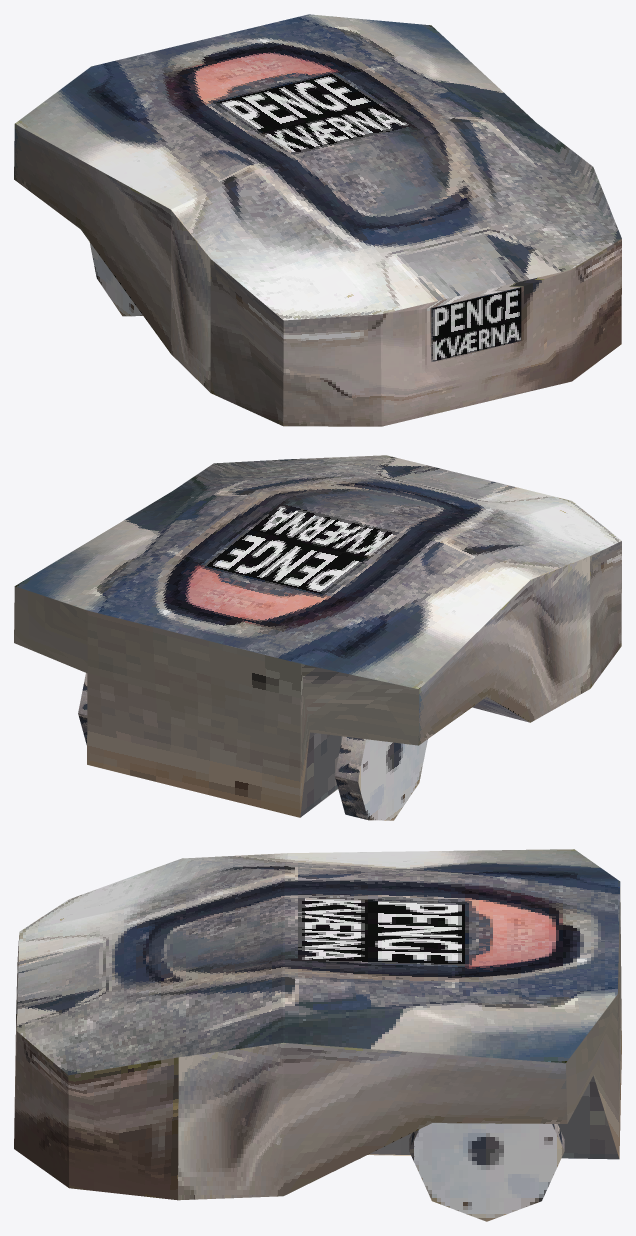
File: PengeKverna.glb
The picture shows the model from 3 angles, top to bottom: view 1: azimuth 30°, elevation 25°; view 2: azimuth 150°, elevation 25°; view 3: azimuth 270°, elevation 25°; orthographic projection. The views are drawn at different scales.
Visible parts, largest first — view 1: PengeKverna, PK_Hjul; view 2: PengeKverna, PK_Hjul; view 3: PengeKverna, PK_Hjul.
Boxes of the visible parts, <box> form: PengeKverna: <box>14,14,621,426</box>; PK_Hjul: <box>89,242,142,316</box>; PengeKverna: <box>14,455,621,817</box>; PK_Hjul: <box>78,673,427,820</box>; PengeKverna: <box>14,849,621,1200</box>; PK_Hjul: <box>409,1123,564,1221</box>.
Bounding box in the file's own units: 3.02 × 1.44 × 3.6.
1 material, 1 textured.
